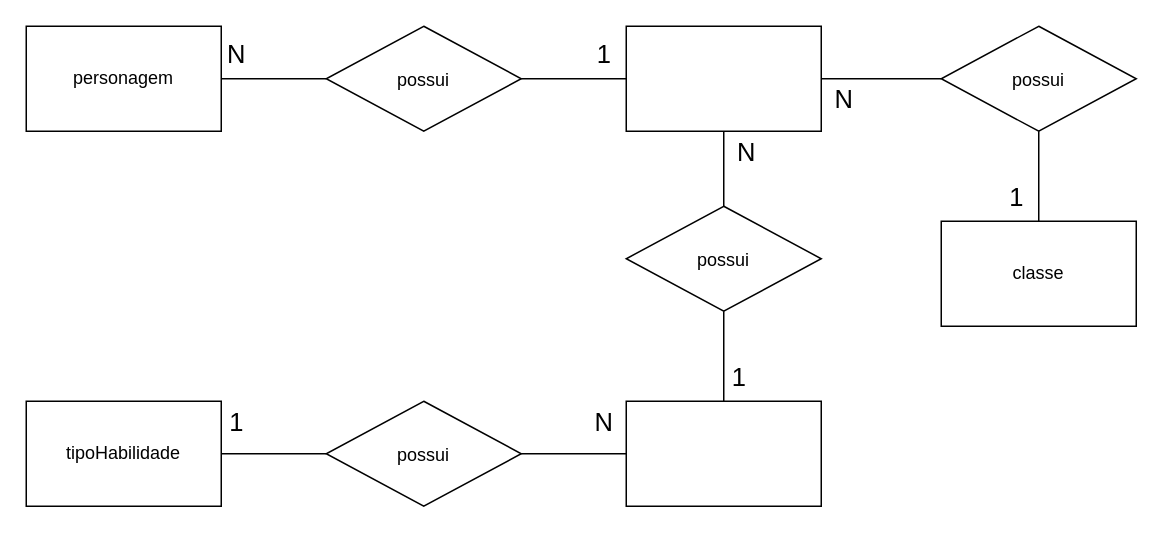
Some shapes in this 1163 by 533 pixel diagram are drawn without their labels. Here are the shapes that lost their labels. From the top down, the box of each, then its label:
(625, 25, 821, 131): classeHabilidade
(625, 400, 821, 506): habilidade
